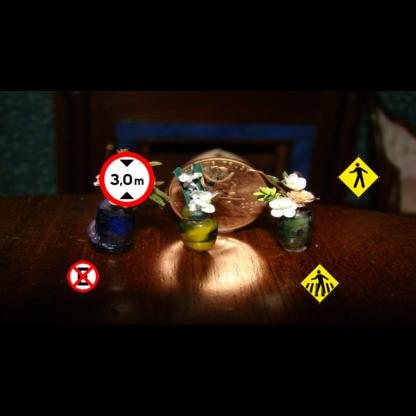A-32a: (337, 155, 380, 199)
A-32b: (299, 263, 340, 304)
R-15: (99, 151, 155, 207)
R-6c: (67, 261, 99, 292)
